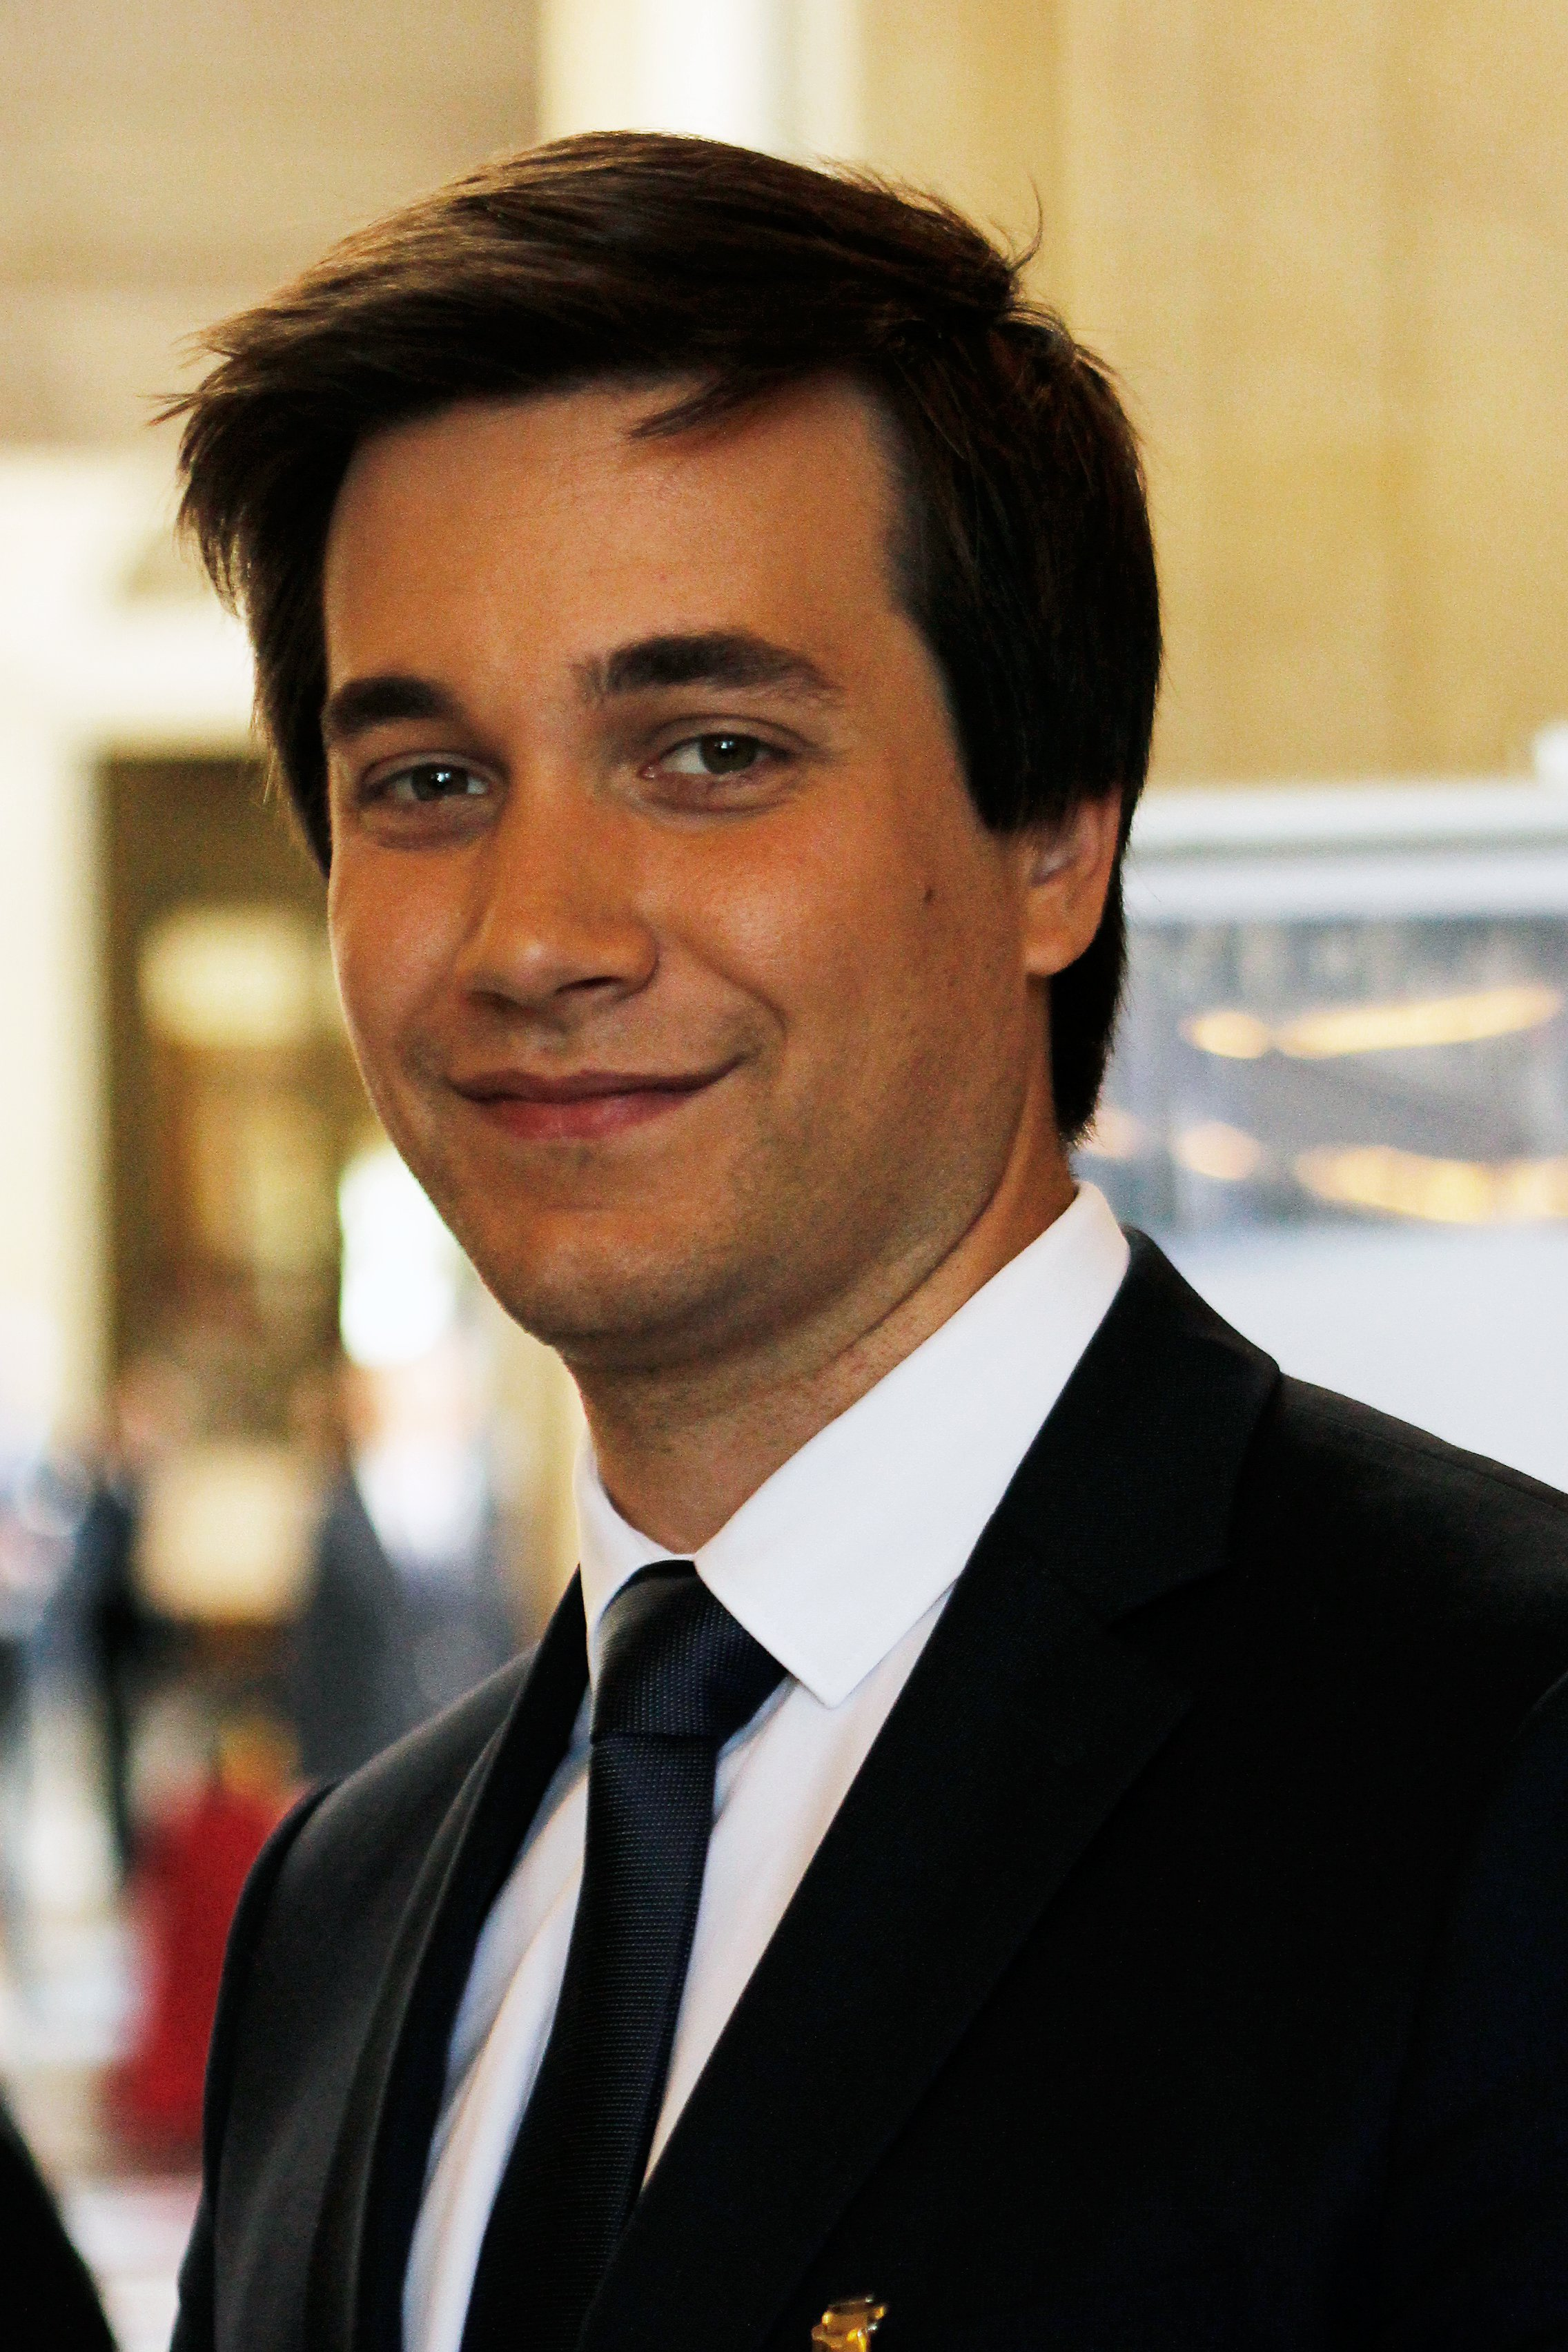noMask: (111, 112, 1175, 1367)
